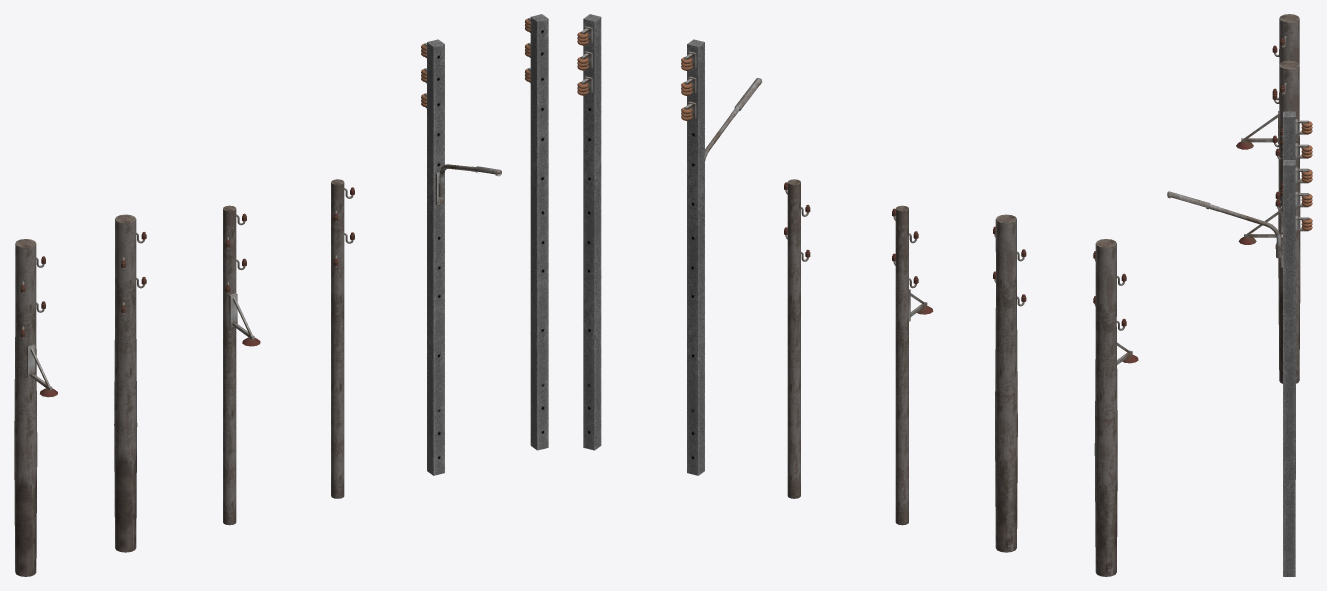
Rendered from Utility_pole.fbx.
The picture shows the model from 3 angles, left to right: view 1: azimuth 30°, elevation 25°; view 2: azimuth 150°, elevation 25°; view 3: azimuth 270°, elevation 25°; orthographic projection. The views are drawn at different scales.
Visible parts, largest first — view 1: Concrete_utility_pole, Concrete_utility_pole_Light, Wooden_utility_pole_Light_big, Wooden_utility_pole_big, Wooden_utility_pole_Light_mini, Wooden_utility_pole_mini; view 2: Concrete_utility_pole_Light, Concrete_utility_pole, Wooden_utility_pole_Light_big, Wooden_utility_pole_big, Wooden_utility_pole_Light_mini, Wooden_utility_pole_mini; view 3: Concrete_utility_pole, Wooden_utility_pole_big, Concrete_utility_pole_Light, Wooden_utility_pole_Light_big, Wooden_utility_pole_Light_mini, Wooden_utility_pole_mini.
Boxes of the visible parts, bbox=[...] form: Concrete_utility_pole: bbox=[525, 14, 548, 450]; Concrete_utility_pole_Light: bbox=[421, 39, 501, 475]; Wooden_utility_pole_Light_big: bbox=[14, 239, 57, 576]; Wooden_utility_pole_big: bbox=[114, 214, 146, 552]; Wooden_utility_pole_Light_mini: bbox=[223, 205, 260, 525]; Wooden_utility_pole_mini: bbox=[331, 179, 354, 498]; Concrete_utility_pole_Light: bbox=[681, 39, 762, 475]; Concrete_utility_pole: bbox=[577, 14, 601, 450]; Wooden_utility_pole_Light_big: bbox=[1093, 239, 1138, 576]; Wooden_utility_pole_big: bbox=[993, 214, 1026, 552]; Wooden_utility_pole_Light_mini: bbox=[892, 205, 933, 525]; Wooden_utility_pole_mini: bbox=[784, 179, 810, 498]; Concrete_utility_pole: bbox=[1283, 160, 1312, 576]; Wooden_utility_pole_big: bbox=[1272, 60, 1300, 383]; Concrete_utility_pole_Light: bbox=[1167, 111, 1312, 267]; Wooden_utility_pole_Light_big: bbox=[1236, 14, 1300, 230]; Wooden_utility_pole_Light_mini: bbox=[1238, 136, 1295, 244]; Wooden_utility_pole_mini: bbox=[1275, 185, 1295, 479].
Size of the model in its own units: 778 by 600 by 192.
2 materials, 2 textured.
